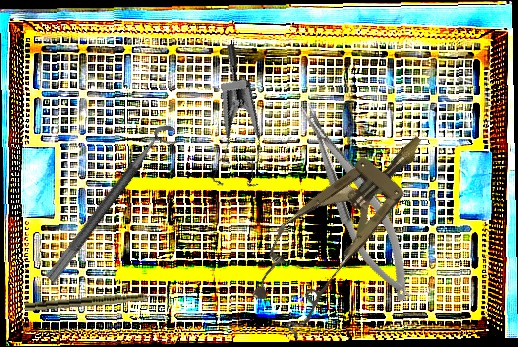Fixation Ring: (45, 119, 186, 294)
Handpiece: (24, 289, 172, 314)
Needle Holder: (290, 92, 424, 310)
Speculum: (232, 109, 452, 339), (169, 42, 286, 200)
